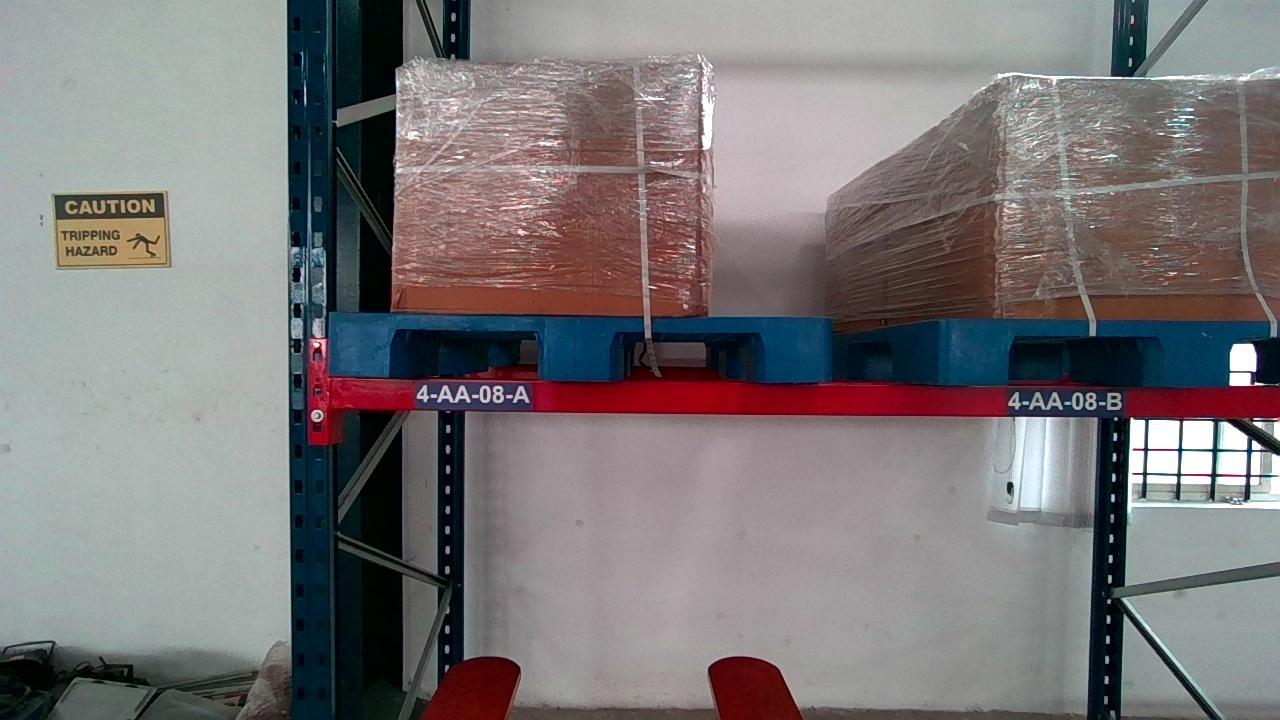h_rack: (322, 380, 1280, 421)
small_pallet: (327, 314, 829, 380), (948, 315, 1280, 385)
